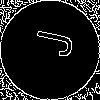J: (25, 25, 75, 59)
